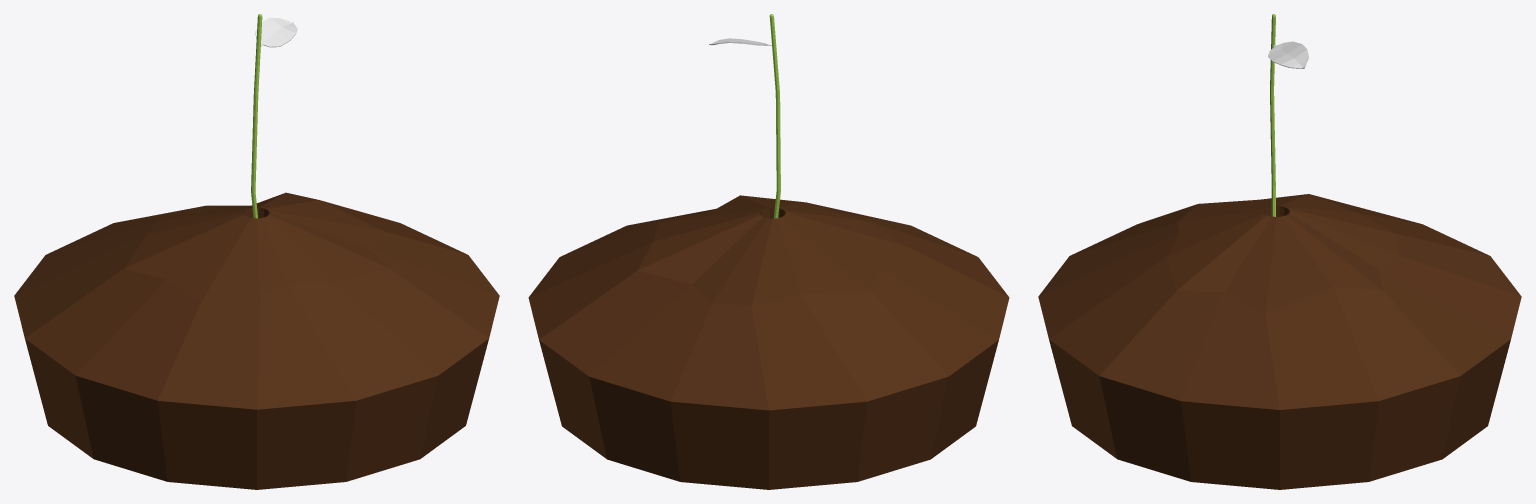
File: stage0.fbx
The picture shows the model from 3 angles, left to right: view 1: azimuth 30°, elevation 25°; view 2: azimuth 150°, elevation 25°; view 3: azimuth 270°, elevation 25°; orthographic projection.
Parts seen in each view (by area): view 1: Stage1.001, Plane.001, Leaf.008; view 2: Stage1.001, Plane.001; view 3: Stage1.001, Plane.001, Leaf.008.
Part boxes in pixels (x1=…): Stage1.001: x1=14, y1=192, x2=499, y2=489; Plane.001: x1=251, y1=14, x2=262, y2=218; Leaf.008: x1=255, y1=18, x2=297, y2=47; Stage1.001: x1=528, y1=195, x2=1009, y2=489; Plane.001: x1=769, y1=14, x2=780, y2=218; Stage1.001: x1=1038, y1=194, x2=1521, y2=489; Plane.001: x1=1270, y1=14, x2=1275, y2=216; Leaf.008: x1=1268, y1=41, x2=1308, y2=68.
Bounding box in the file's own units: 35.52 × 31.25 × 35.72.
